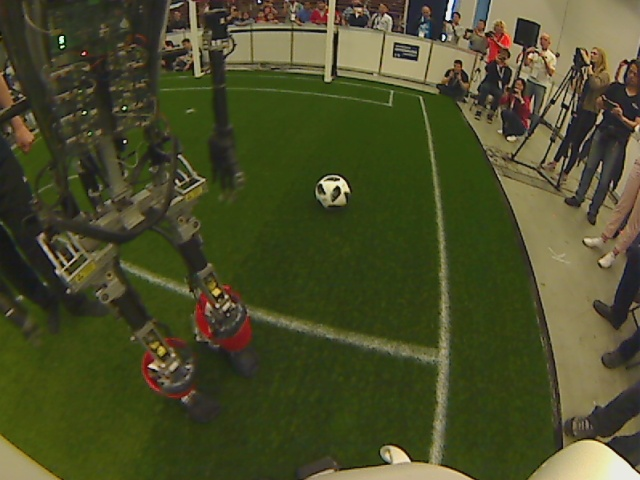ball: (312, 173, 353, 212)
goalpost: (178, 63, 215, 89), (317, 66, 340, 91)
robot: (139, 293, 258, 421)
